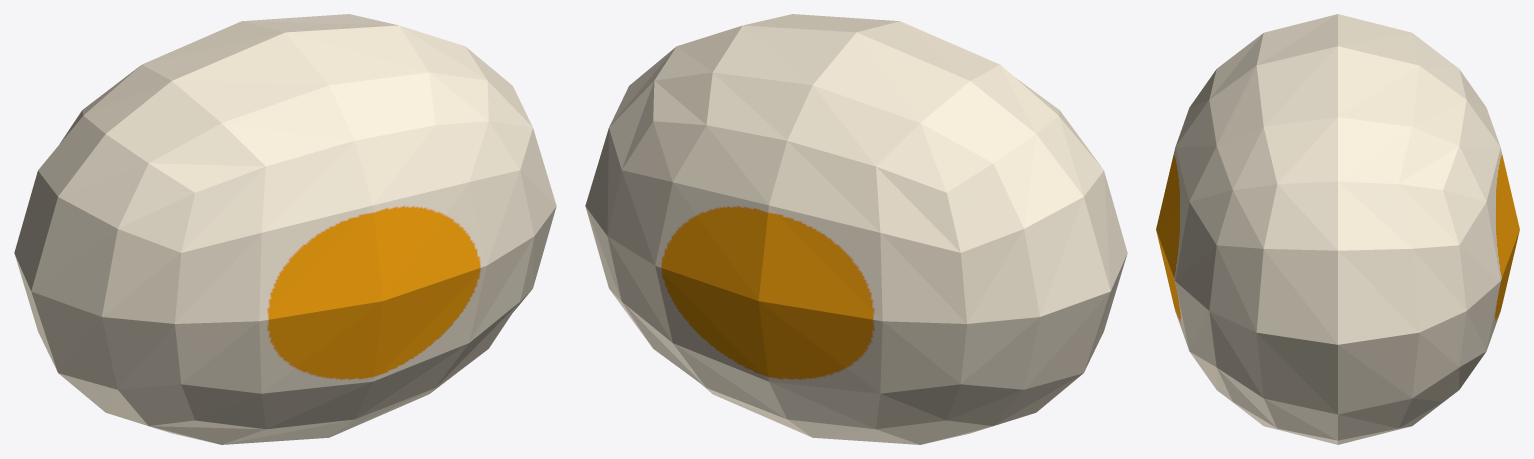
Rendered from egg.obj.
3 views of the same model, side by side, from view 1: azimuth 30°, elevation 25°; view 2: azimuth 150°, elevation 25°; view 3: azimuth 270°, elevation 25° (orthographic). The views are drawn at different scales.
Size of the model in its own units: 0.054 by 0.04 by 0.036.
1 material, 1 textured.
